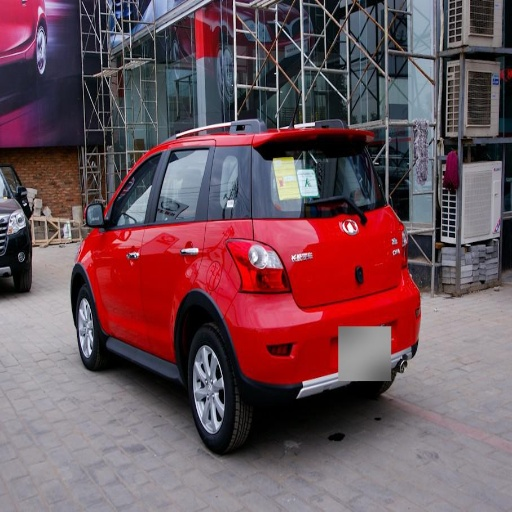back_bumper: (228, 271, 417, 398)
back_glass: (270, 149, 376, 214)
back_left_door: (143, 143, 212, 357)
trunk: (254, 210, 399, 309)
